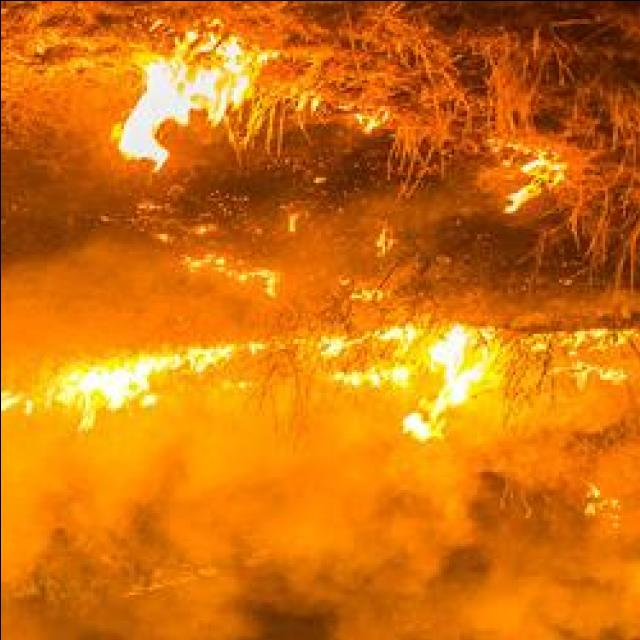fire: (114, 66, 190, 162), (72, 362, 158, 406), (427, 329, 478, 399)
smoke: (0, 449, 225, 583), (258, 449, 472, 585), (481, 518, 638, 638), (33, 234, 178, 326)
